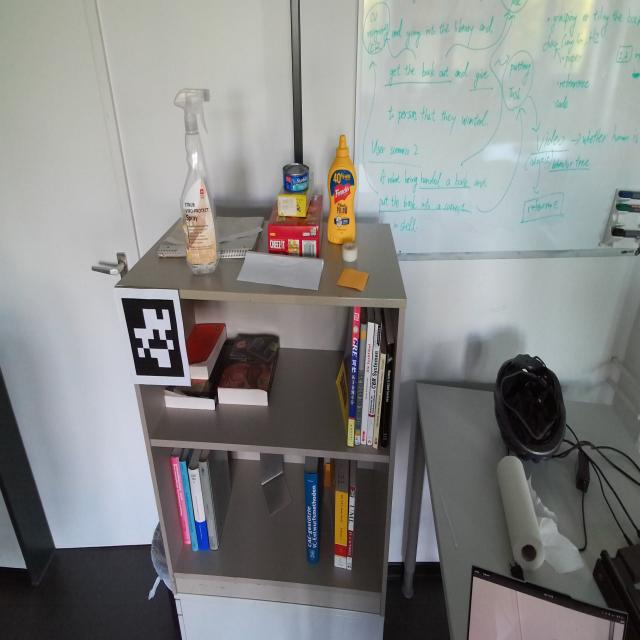Book Spine: (170, 456, 191, 545), (367, 323, 382, 446), (188, 467, 210, 550), (179, 461, 199, 551), (360, 322, 374, 445), (199, 460, 218, 550), (348, 307, 360, 447), (381, 343, 395, 448), (355, 324, 367, 446), (372, 352, 386, 449), (305, 472, 319, 564), (334, 491, 348, 569), (347, 486, 355, 570)
